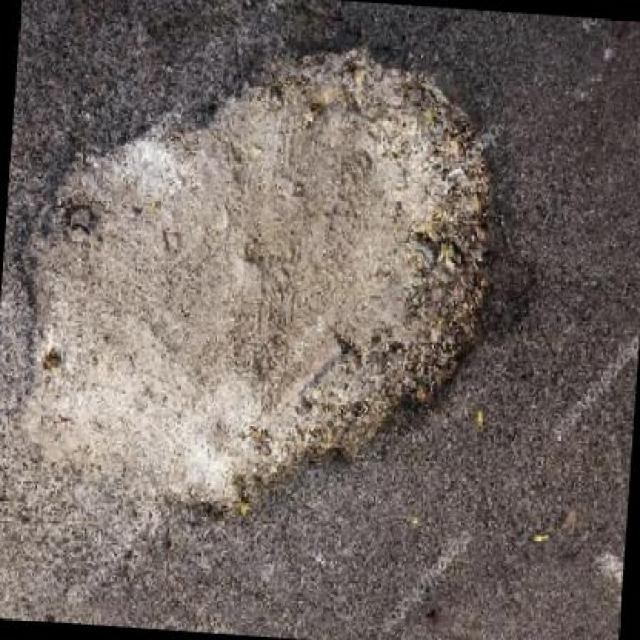pothole1: (0, 19, 557, 568)
